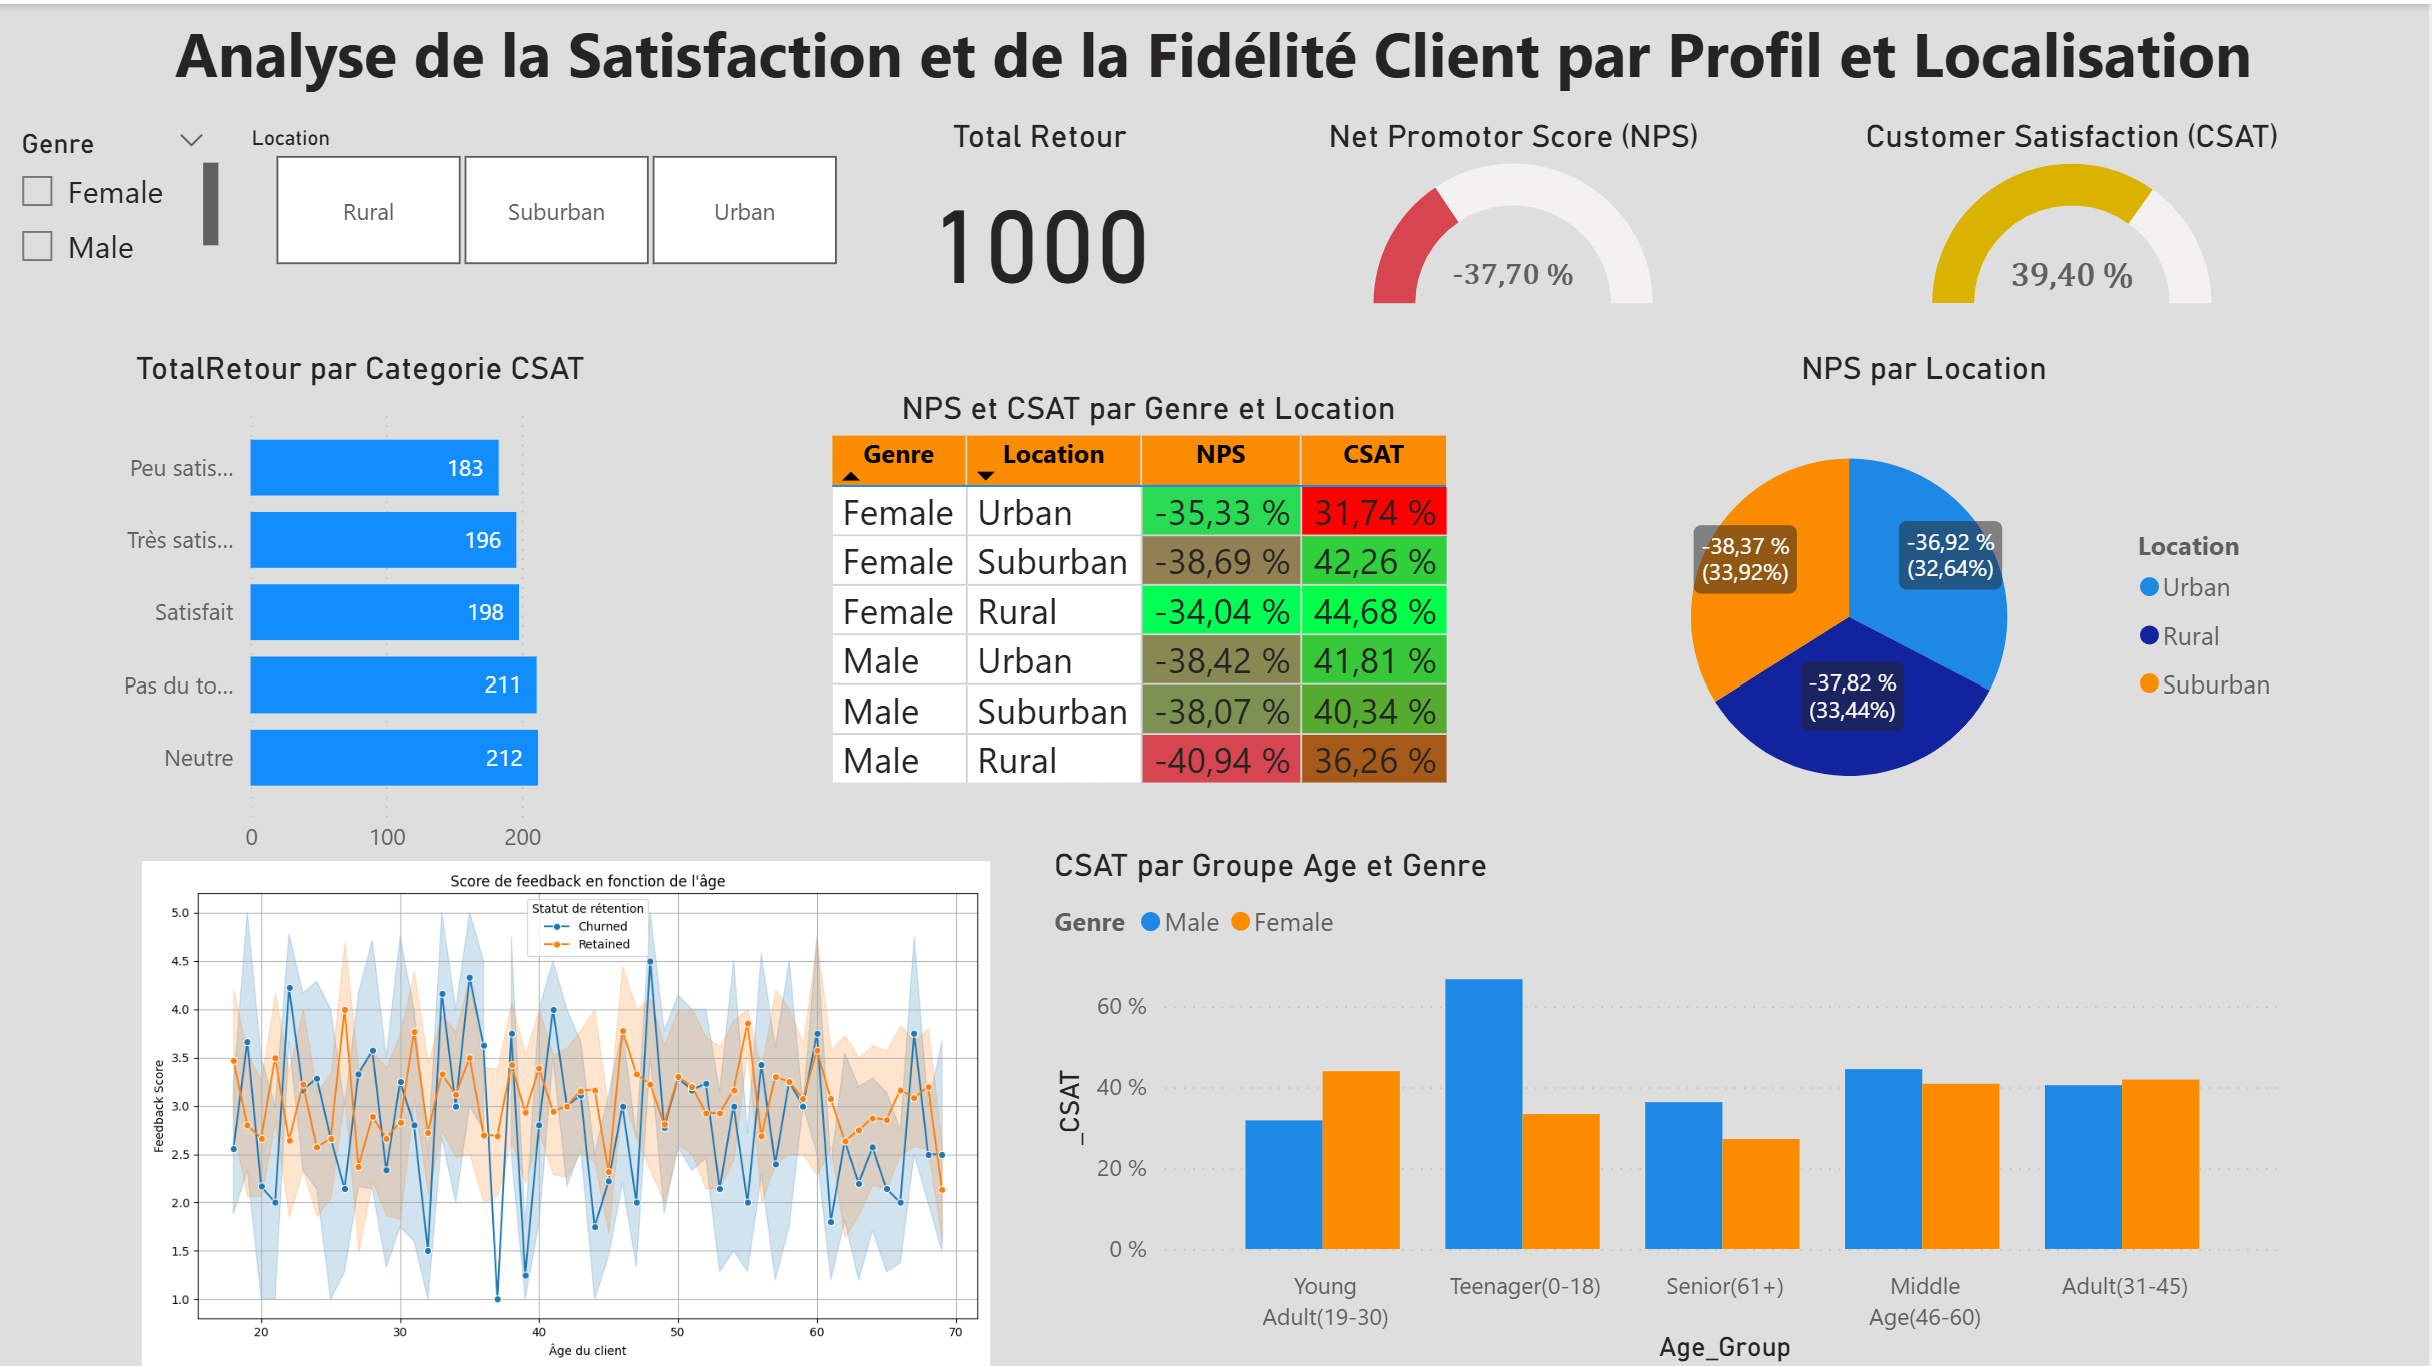

The page's visual inventory and layout, read from the dashboard file:
{"tool":"powerbi","page":{"name":"Page 1","canvas":[1280,720],"ordinal":0},"visuals":[{"type":"gauge","title":"Customer Satisfaction (CSAT)","fields":{"Y":["customer_experience_data._CSAT"]},"box":[952.1,60.9,278.8,102.5],"z":0},{"type":"gauge","title":"Net Promotor Score (NPS)","fields":{"Y":["customer_experience_data._NPS"]},"box":[644.6,60.9,307.5,102.5],"z":1000},{"type":"pieChart","title":"NPS par Location","fields":{"Category":["customer_experience_data.Location"],"Y":["customer_experience_data._NPS"]},"box":[817.5,183.5,392.8,261.9],"z":2000},{"type":"clusteredBarChart","title":"TotalRetour par Categorie CSAT","fields":{"Category":["customer_experience_data.Category_CSAT"],"Y":["customer_experience_data.TotalReponse"]},"box":[50.5,183.5,281.4,274.2],"z":3000},{"type":"card","title":"Total Retour","fields":{"Values":["customer_experience_data.TotalReponse"]},"box":[465.9,60.9,165,102.5],"z":4000},{"type":"pythonVisual","fields":{"Values":["customer_experience_data.Age","customer_experience_data.Satisfaction_Score","customer_experience_data.Retention_Status","customer_experience_data.Time_Spent_OnSite","customer_experience_data.Feedback_Score"]},"box":[50,452,498,268],"z":5000},{"type":"tableEx","title":"NPS et CSAT par Genre et Location","fields":{"Values":["customer_experience_data.Sexe","customer_experience_data.Location","customer_experience_data._NPS","customer_experience_data._CSAT"]},"box":[433.8,203.8,345,222.5],"z":6000},{"type":"clusteredColumnChart","title":"CSAT par Groupe Age et Genre","fields":{"Category":["customer_experience_data.Age_Group"],"Series":["customer_experience_data.Sexe"],"Y":["customer_experience_data._CSAT"]},"box":[552,444,658,276],"z":7000},{"type":"textbox","box":[0,0,1280.4,59.8],"z":8000},{"type":"slicer","fields":{"Values":["customer_experience_data.Genre"]},"box":[0,61.2,121.2,83.8],"z":8001},{"type":"slicer","fields":{"Values":["customer_experience_data.Location"]},"box":[121.2,60,345,85],"z":8002}]}

Visuals, with their boxes in screenshot pixels (x1, y1, x2, y2), scaled from the page's 1280x720 canvas onto the 2432x1366 screenshot:
"Customer Satisfaction (CSAT)" gauge: {"x1": 1809, "y1": 116, "x2": 2339, "y2": 310}
"Net Promotor Score (NPS)" gauge: {"x1": 1225, "y1": 116, "x2": 1809, "y2": 310}
"NPS par Location" pieChart: {"x1": 1553, "y1": 348, "x2": 2300, "y2": 845}
"TotalRetour par Categorie CSAT" clusteredBarChart: {"x1": 96, "y1": 348, "x2": 631, "y2": 868}
"Total Retour" card: {"x1": 885, "y1": 116, "x2": 1199, "y2": 310}
pythonVisual - customer_experience_data.Age x customer_experience_data.Satisfaction_Score: {"x1": 95, "y1": 858, "x2": 1041, "y2": 1365}
"NPS et CSAT par Genre et Location" tableEx: {"x1": 824, "y1": 387, "x2": 1480, "y2": 809}
"CSAT par Groupe Age et Genre" clusteredColumnChart: {"x1": 1049, "y1": 842, "x2": 2299, "y2": 1365}
textbox: {"x1": 0, "y1": 0, "x2": 2431, "y2": 113}
slicer - customer_experience_data.Genre: {"x1": 0, "y1": 116, "x2": 230, "y2": 275}
slicer - customer_experience_data.Location: {"x1": 230, "y1": 114, "x2": 886, "y2": 275}
